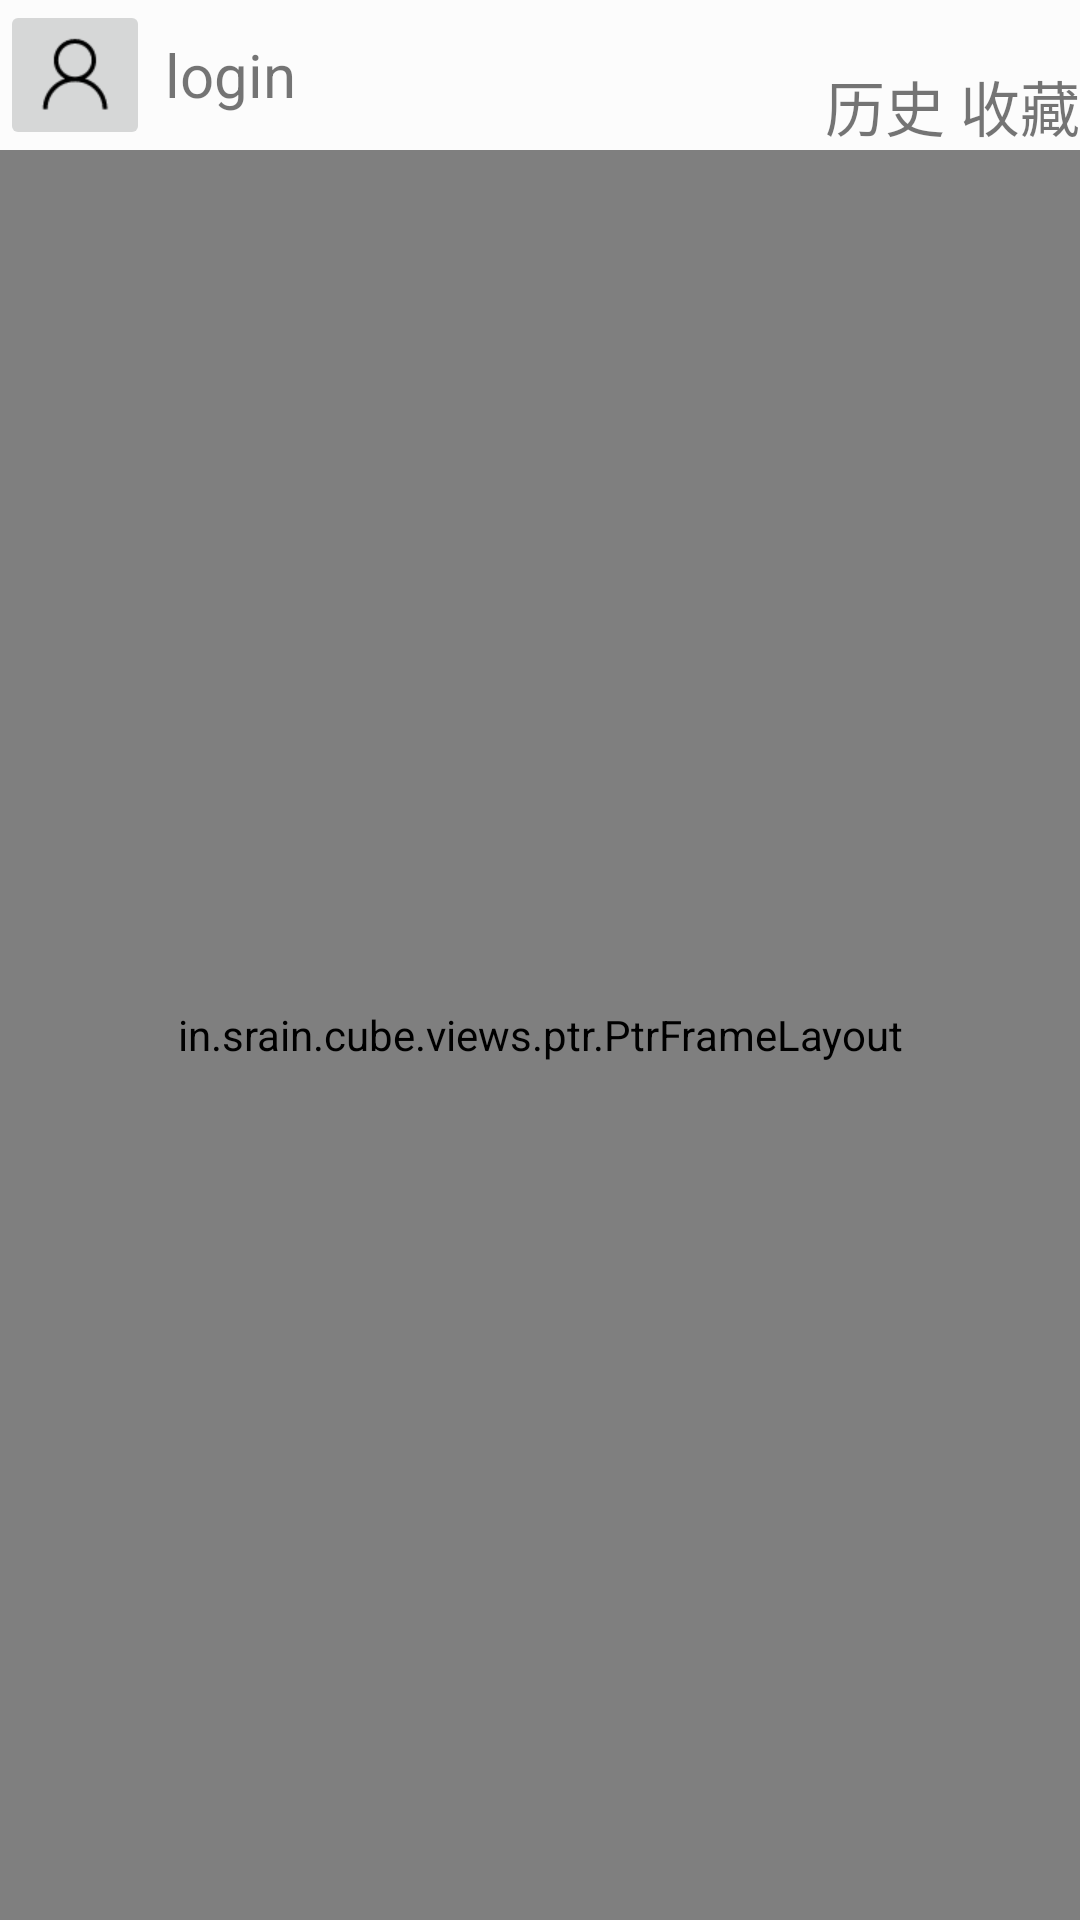

Icon click points for this 1080x1920 phone screenshot, format (x,y):
denglu: (75,75)
